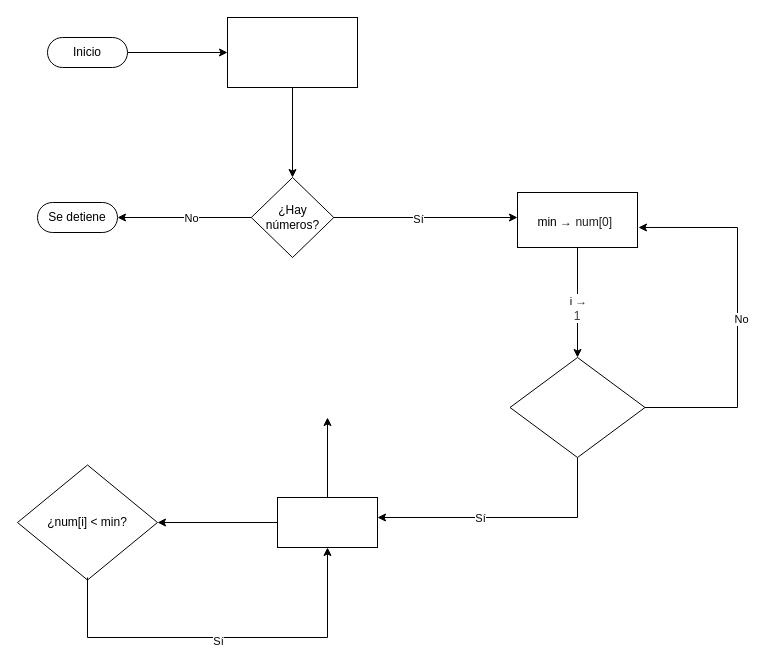
Image size: 765x665. Some labels were removed from this diagram. Here are the shapes that lost their labels. From the top down, the centre of each, then its label:
(292,52): Array con números enteros desordenados
(577,407): i < tamaño del array
(327,522): num[i] → min
